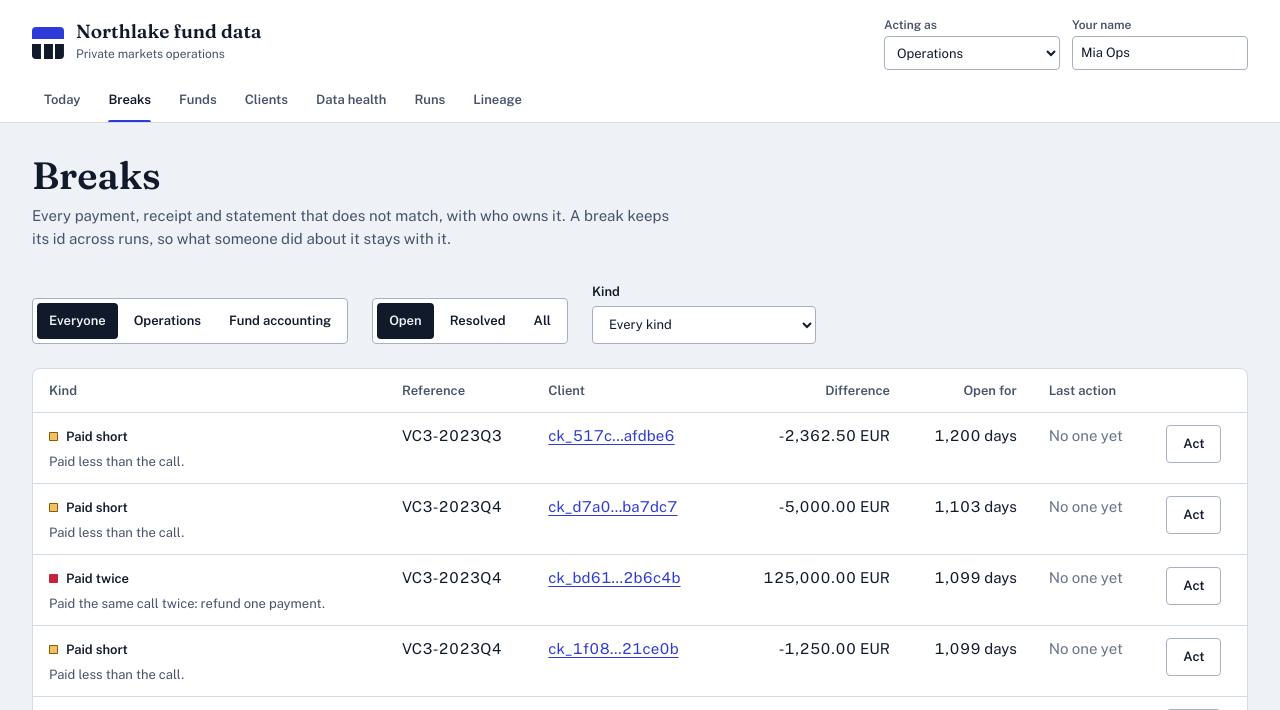
Test: breaks › lets operations resolve a break with a note
Click the button with aria-label "Act on" at (1194, 444), box [1166,425,1222,463]
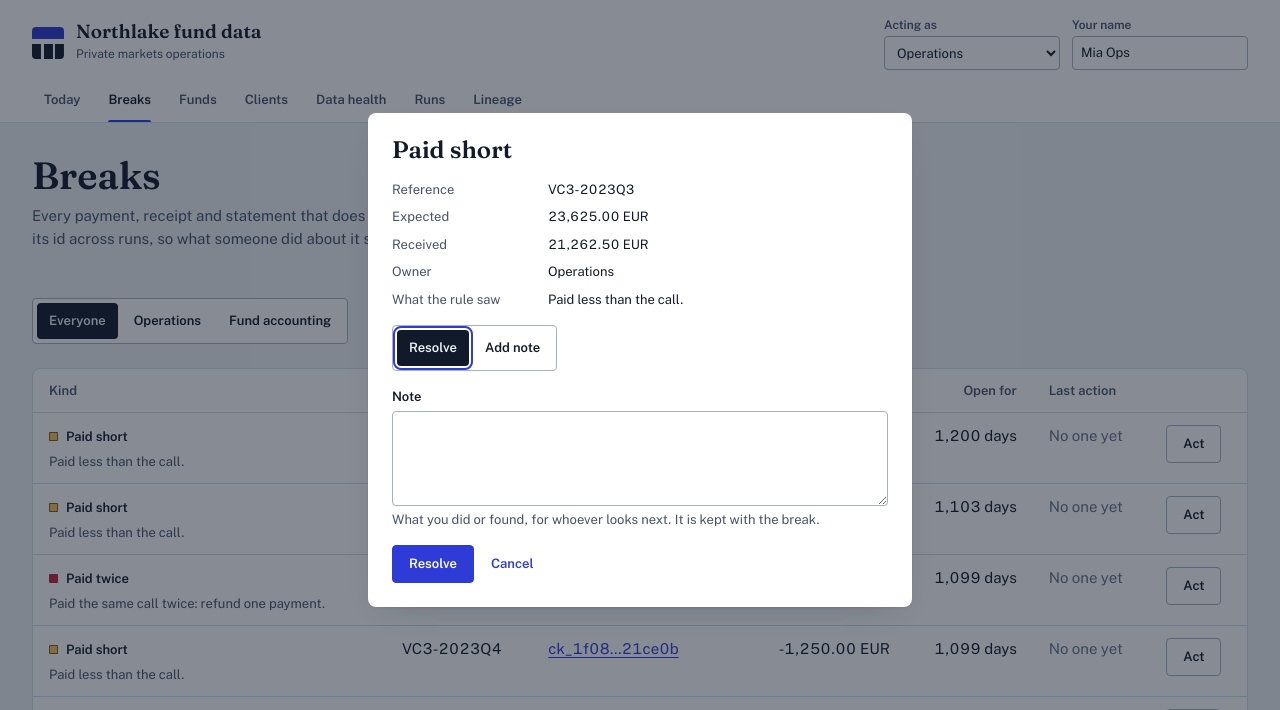
Click the button "Resolve" at (433, 564), box [392,545,474,583]
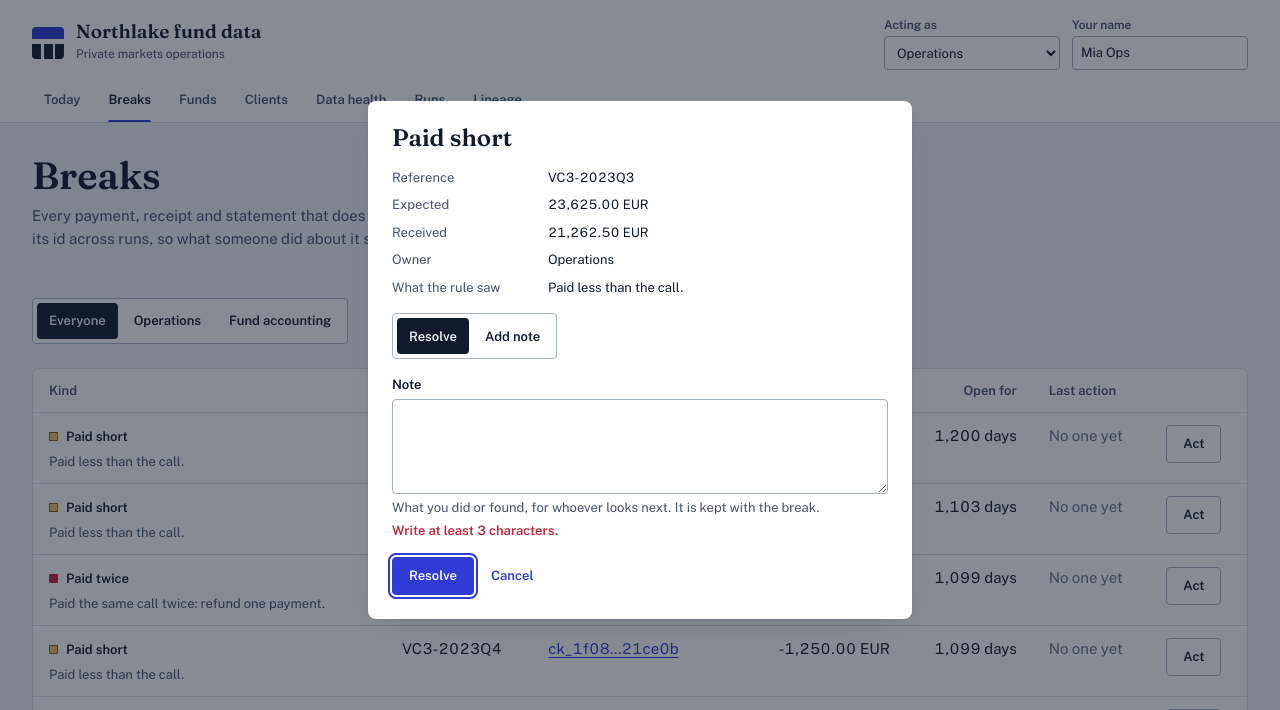
Expected: the text "Write at least 3 characters." is shown, [392,523,558,538]
Type "Client topped up on 27 Oct" into the text box labelled "Note" at (640, 446), box [392,399,888,494]
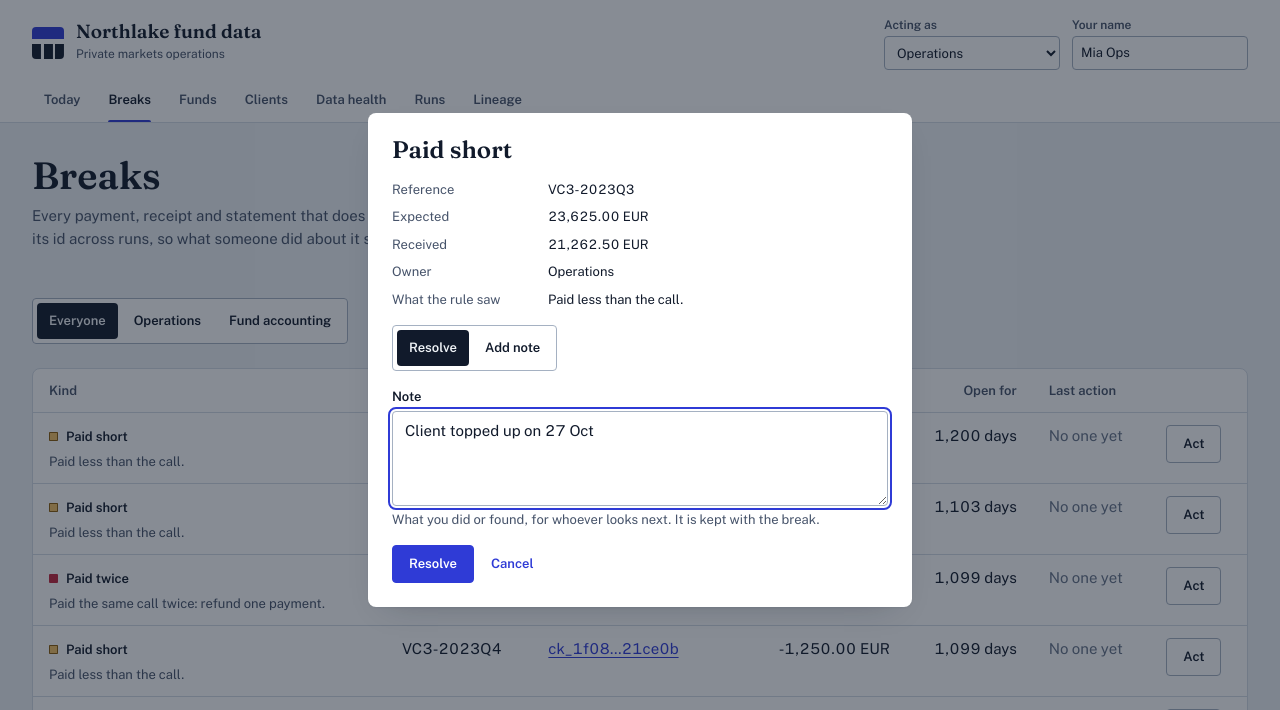
Click the button "Resolve" at (433, 564), box [392,545,474,583]
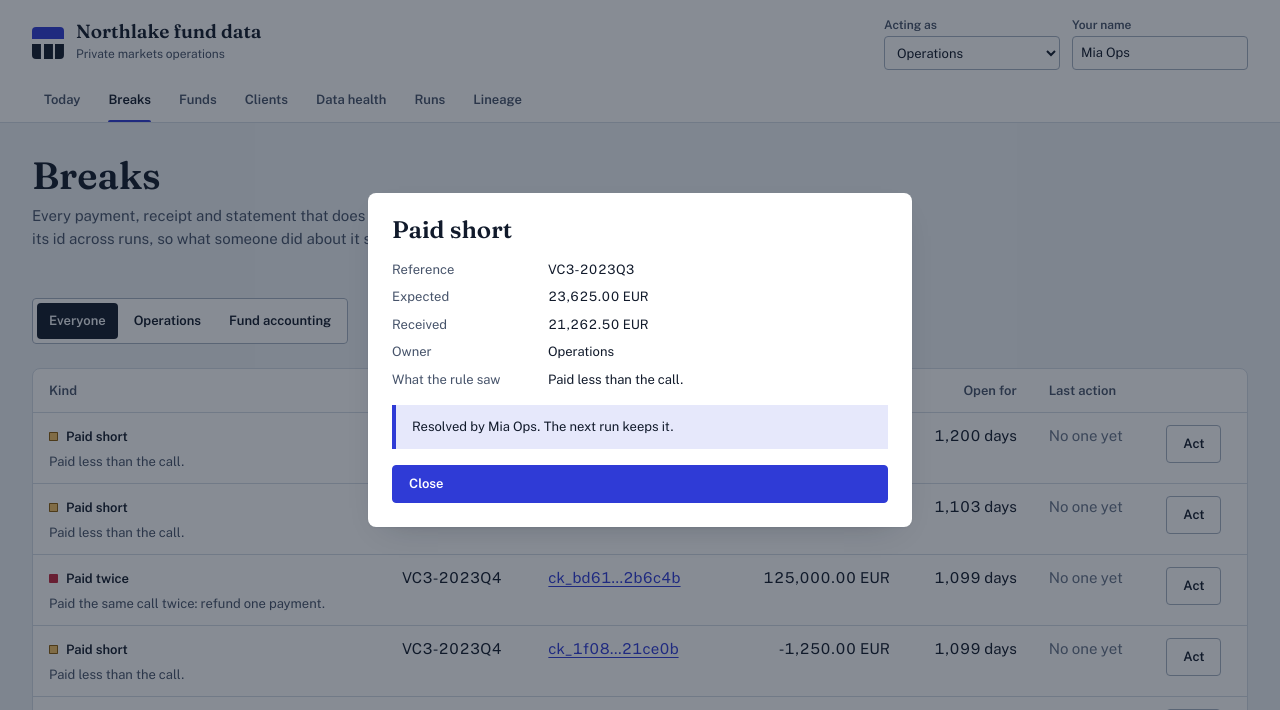
Expected: the text "Resolved by Mia Ops. The next run keeps it." is shown, [392,405,888,449]
